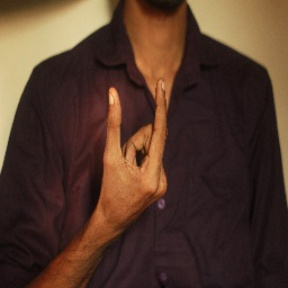U: (104, 76, 176, 209)
